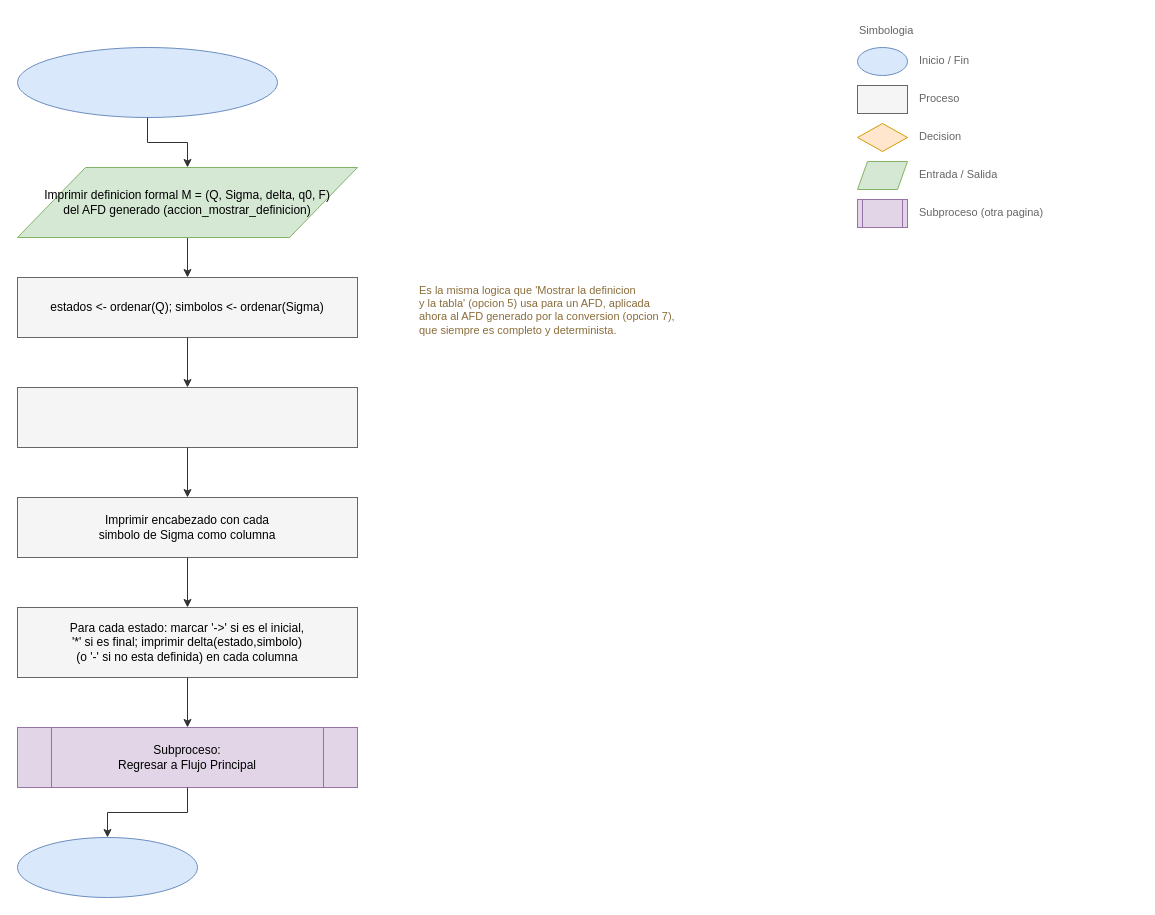
Some shapes in this 1155 by 915 pixel diagram are drawn without their labels. Here are the shapes that lost their labels. From the top down, the centre of each, then its label:
At point 147,82: "Inicio: Mostrar el AFD generado (definicion formal y tabla)".
At point 187,417: "Calcular ancho de columna segun el nombre de estado mas largo".
At point 107,867: "Fin".
